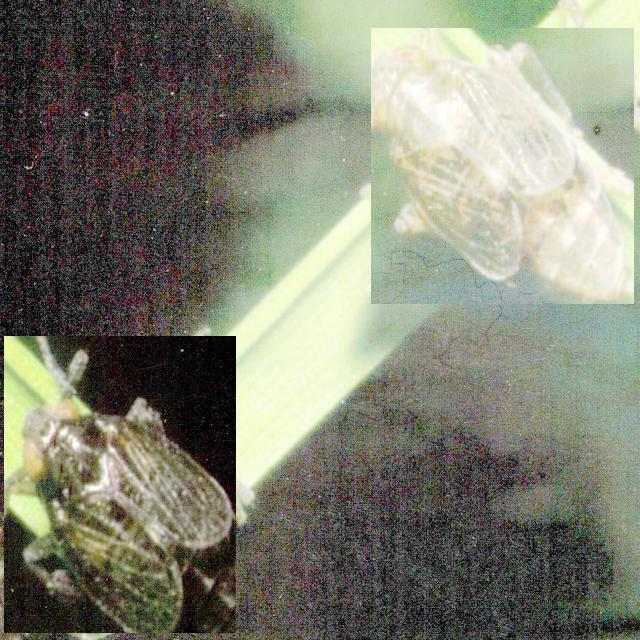rice-bug: (371, 28, 634, 304), (4, 336, 236, 633)
